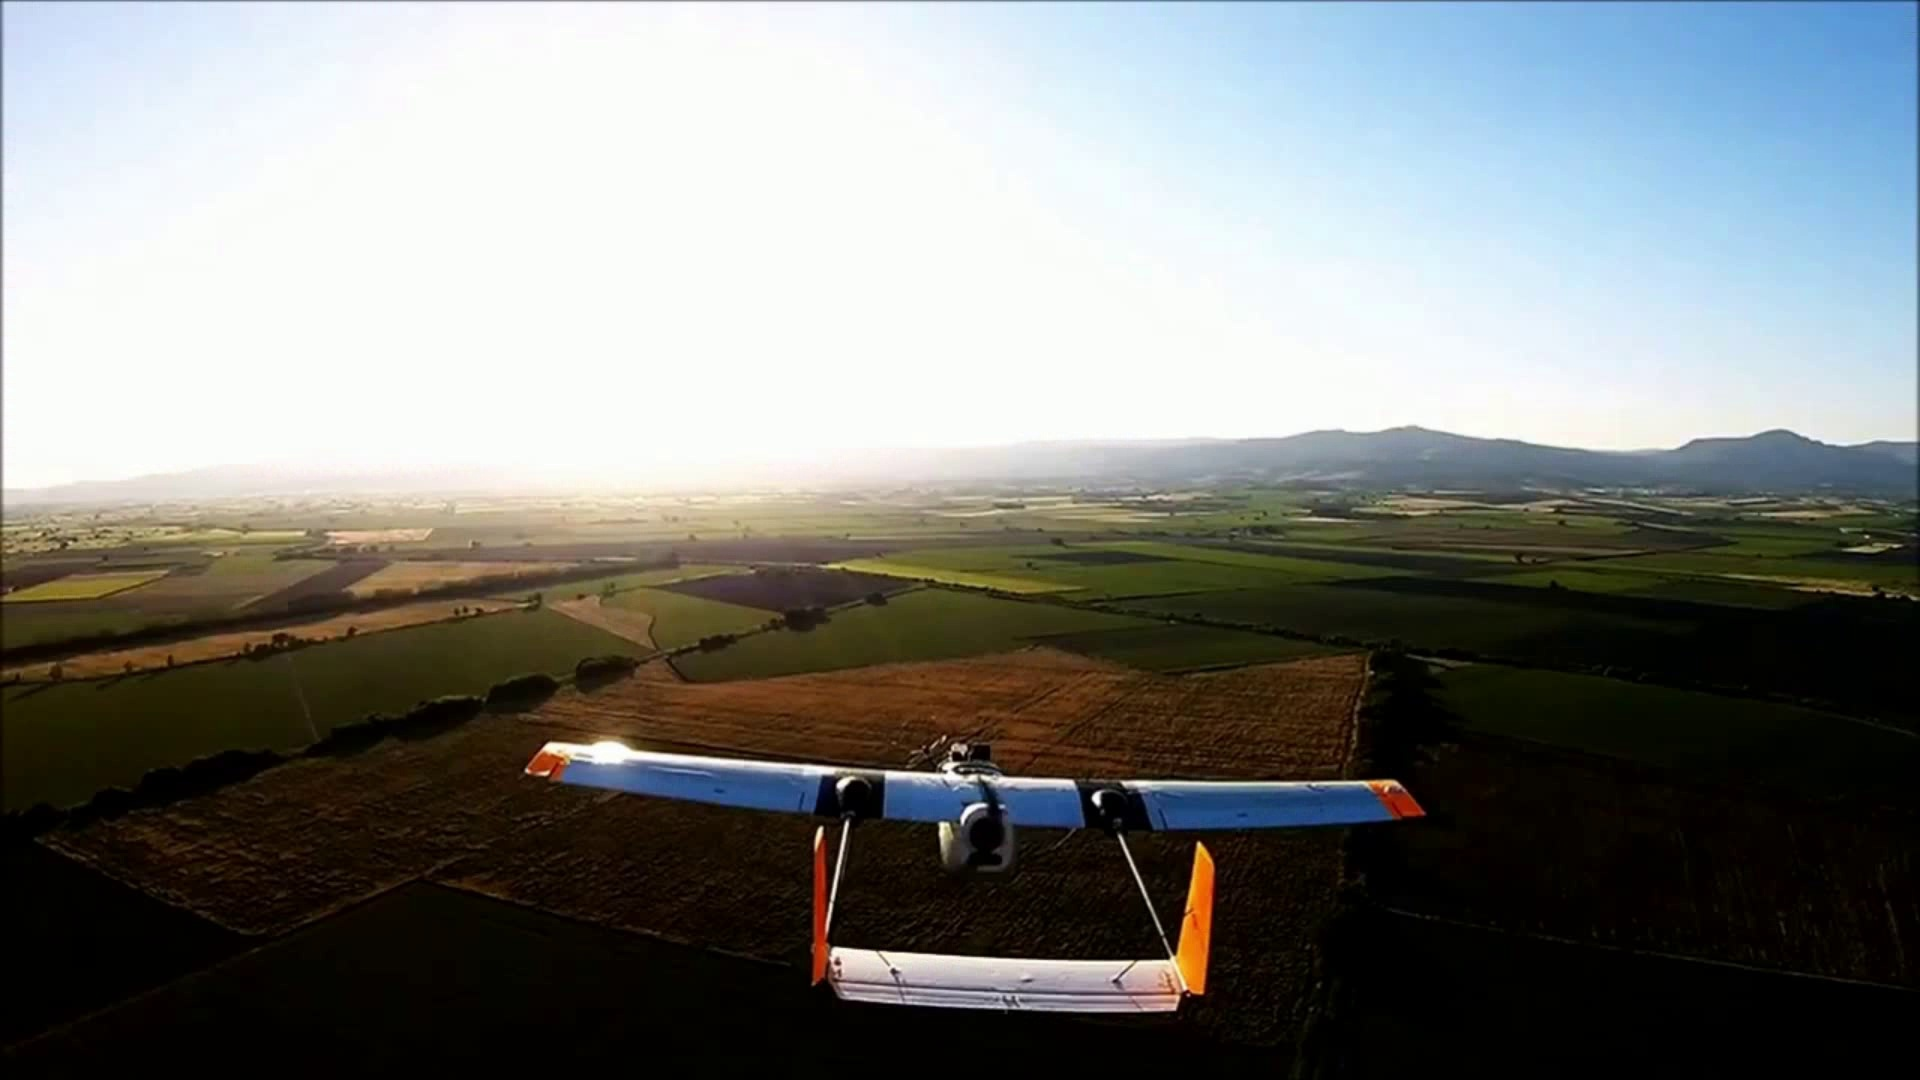airplane: (525, 742, 1428, 1014)
